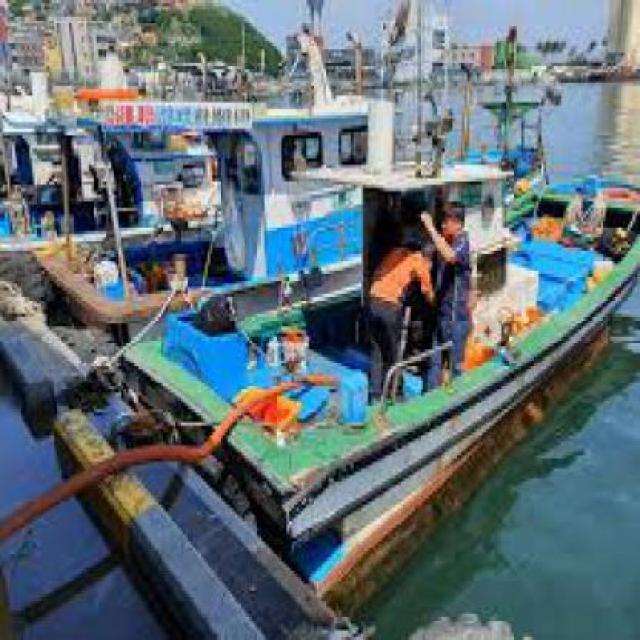fish-b: (117, 162, 639, 618), (43, 60, 454, 331)
